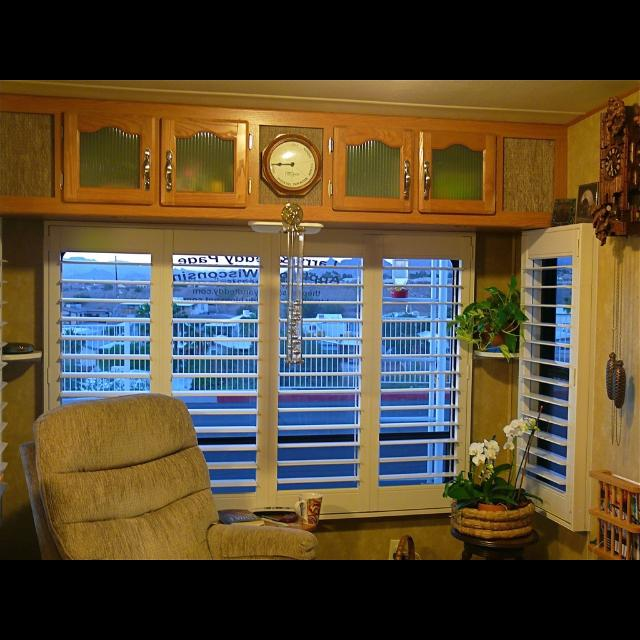Flower: (500, 415, 546, 455), (462, 440, 500, 482)
